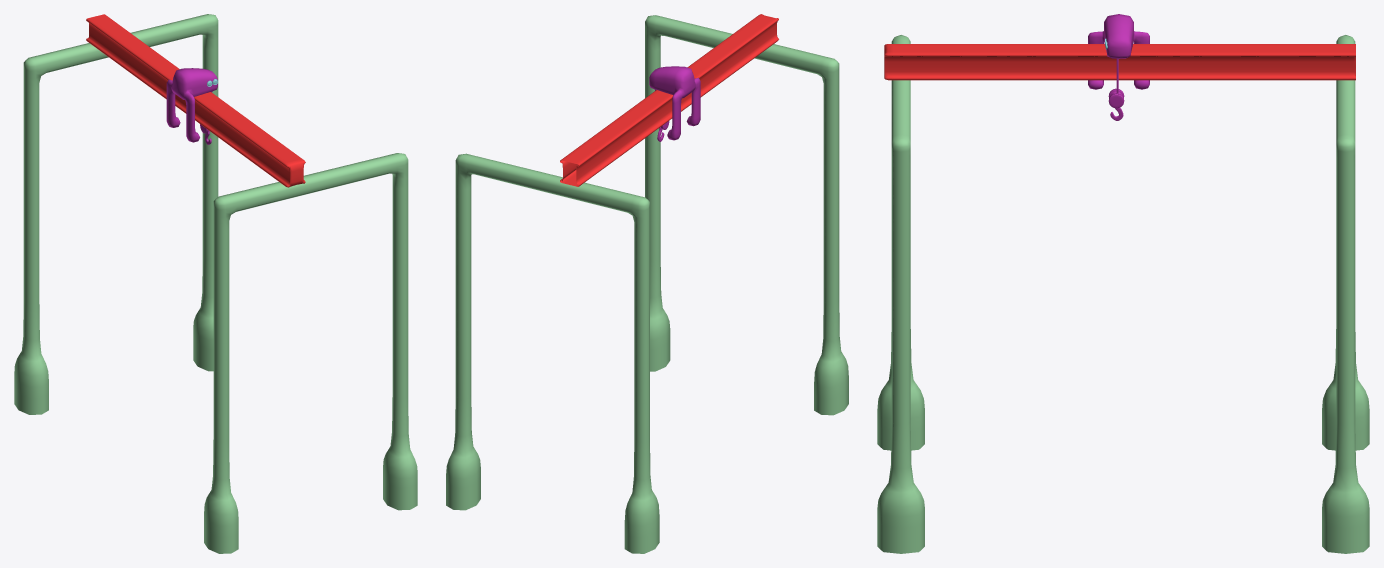
Rendered from CeilingCraneLow.FBX.
3 renders of one model, left to right at view 1: azimuth 30°, elevation 25°; view 2: azimuth 150°, elevation 25°; view 3: azimuth 270°, elevation 25°, orthographic. The views are drawn at different scales.
Parts seen in each view (by area): view 1: Crane; view 2: Crane; view 3: Crane.
Part boxes in pixels (x1,y1,x2,y2): Crane: (14, 14, 417, 553); Crane: (446, 14, 848, 553); Crane: (877, 14, 1369, 553).
Bounding box in the file's own units: 1212 × 2222 × 2151.
